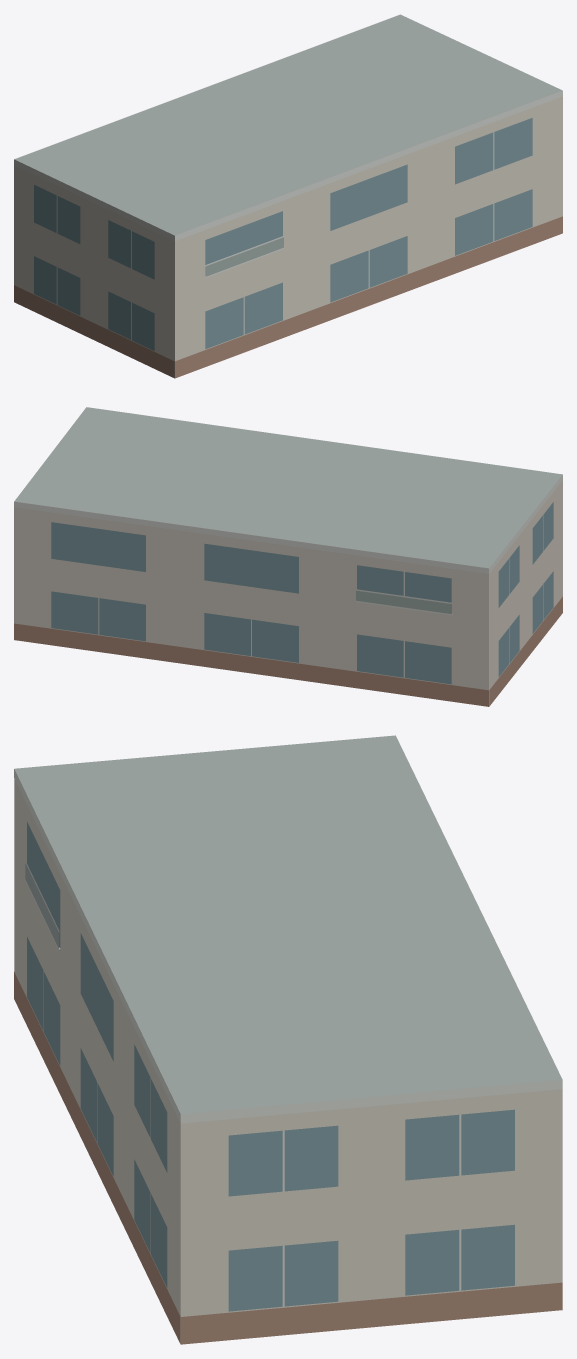
The model's file is survey-upis-32744085.glb.
The picture shows the model from 3 angles, top to bottom: view 1: azimuth 30°, elevation 25°; view 2: azimuth 150°, elevation 25°; view 3: azimuth 270°, elevation 25°; orthographic projection. The views are drawn at different scales.
Visible parts, largest first — view 1: survey-upis-32744085.tmp; view 2: survey-upis-32744085.tmp; view 3: survey-upis-32744085.tmp.
Boxes of the visible parts, box(x1,y1,x2,y2) form: survey-upis-32744085.tmp: box(14, 14, 562, 378); survey-upis-32744085.tmp: box(14, 407, 562, 706); survey-upis-32744085.tmp: box(14, 735, 562, 1344).
Size of the model in its own units: 21.55 by 6.1 by 13.19.
